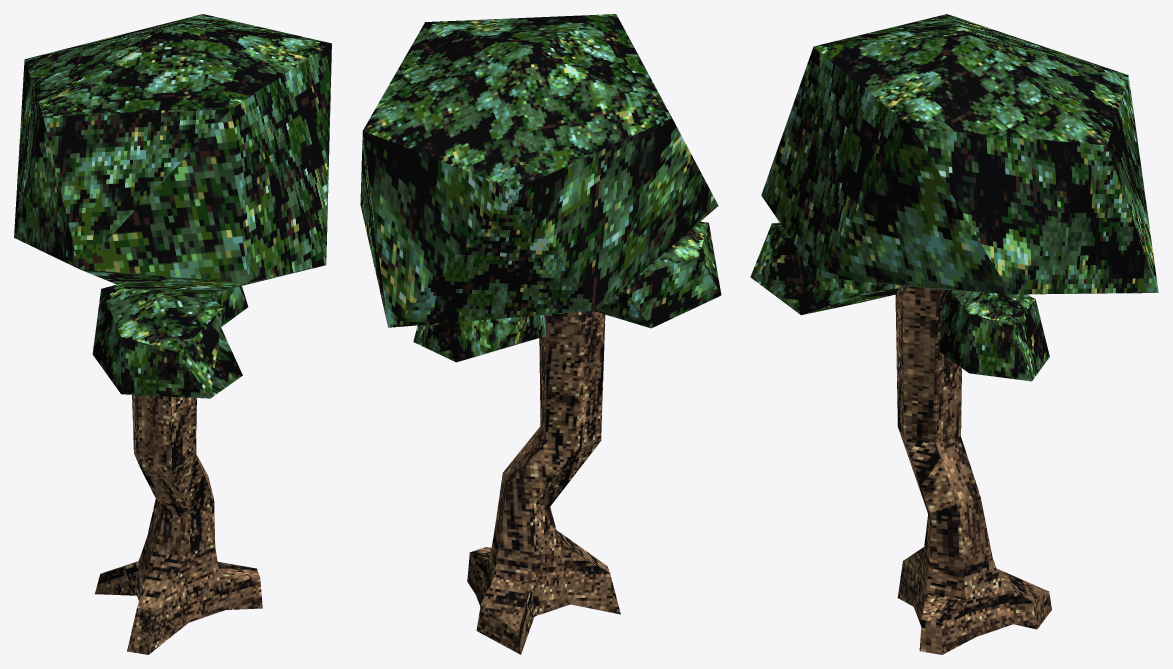
File: tree 2.fbx
3 views of the same model, side by side, from view 1: azimuth 30°, elevation 25°; view 2: azimuth 150°, elevation 25°; view 3: azimuth 270°, elevation 25° (orthographic). The views are drawn at different scales.
Visible parts, largest first — view 1: Cube.014; view 2: Cube.014; view 3: Cube.014.
Part boxes in pixels (x1,y1,x2,y2): Cube.014: (14,14,331,654); Cube.014: (360,14,721,654); Cube.014: (750,14,1158,654).
Size of the model in its own units: 718 by 1364 by 854.
